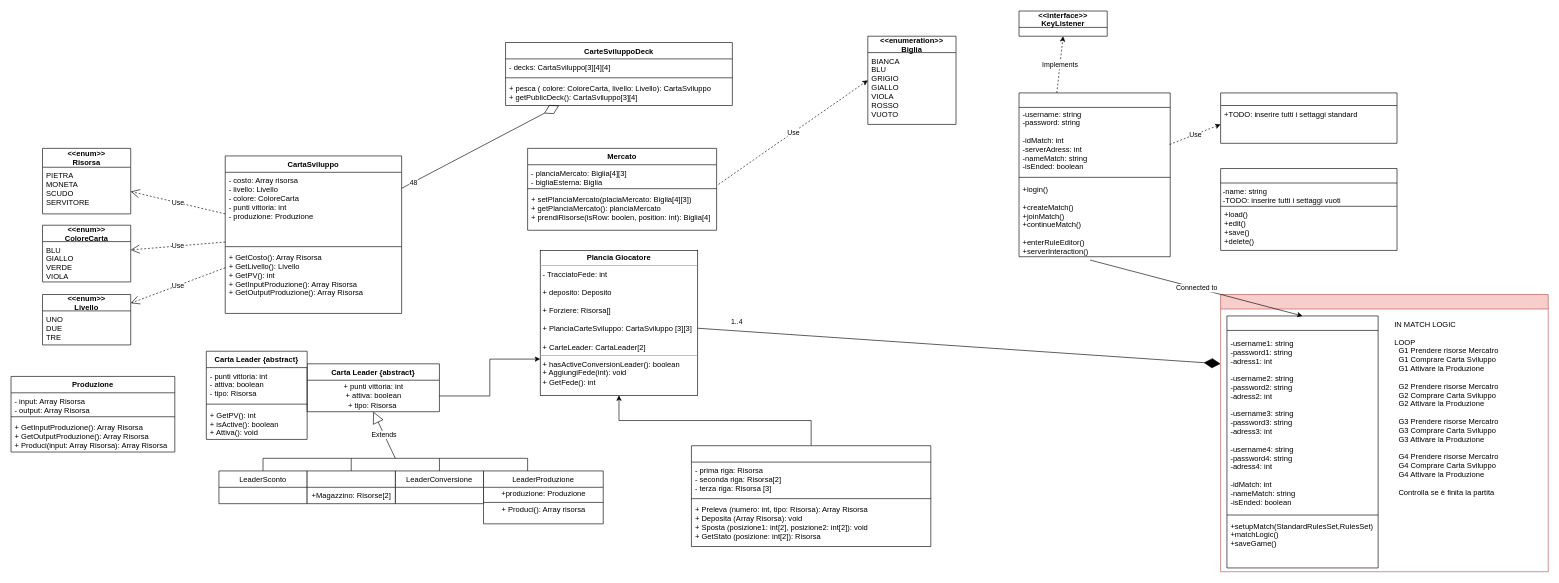
Image size: 1559x583. Some labels were removed from this diagram. Here are the shapes that lost their labels. From the top down, the box of each, then its label:
(1220, 92, 1397, 143): Standard Rules Set
(1018, 92, 1170, 257): Interface (commandLine)
(1220, 168, 1397, 250): Custom Rules Set
(1226, 315, 1378, 568): Game Logic
(1220, 294, 1548, 572): SERVER
(306, 470, 395, 504): LeaderDeposito
(691, 445, 931, 547): Deposito
